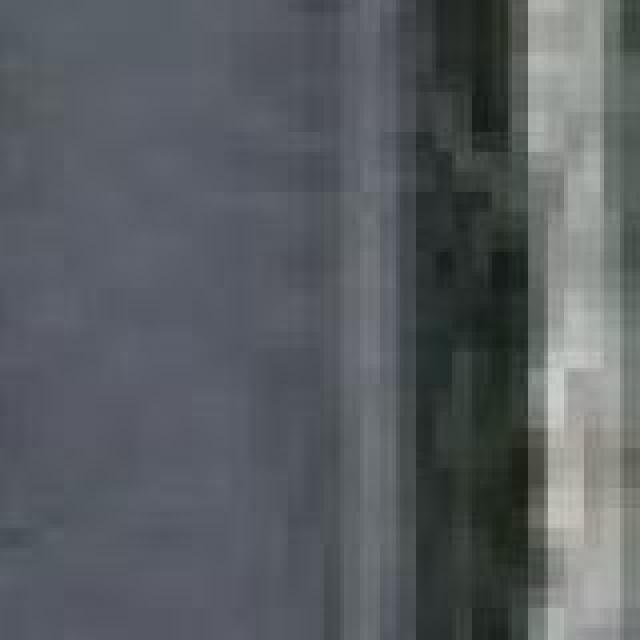inductor: (0, 0, 532, 640)
